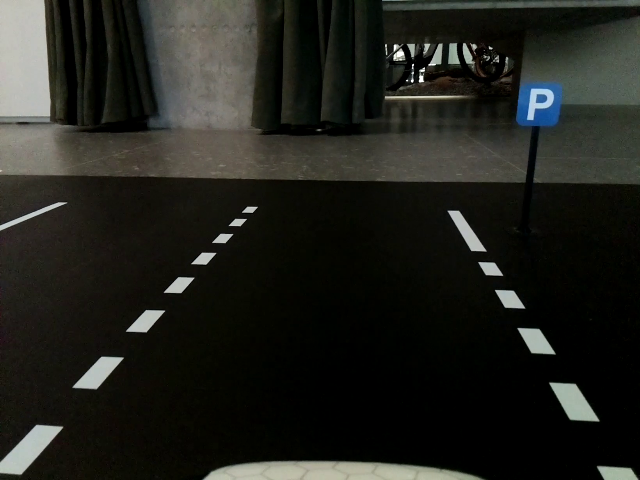park: (516, 85, 563, 130)
